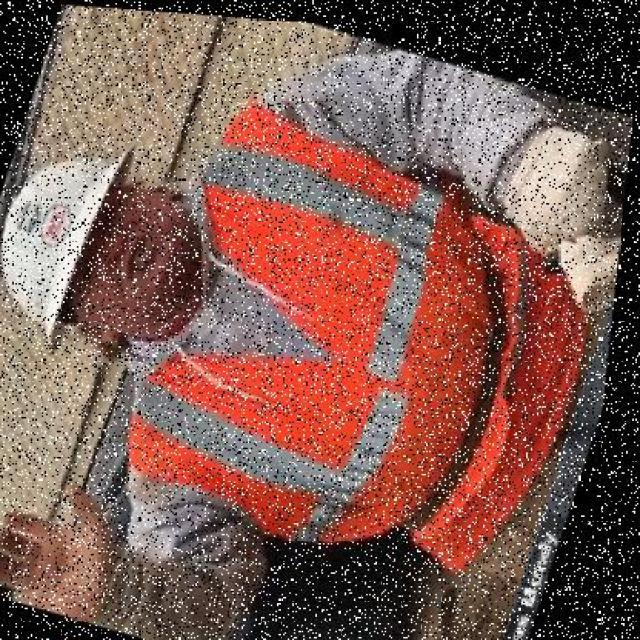helmet: (0, 102, 153, 370)
vest: (108, 75, 538, 569)
